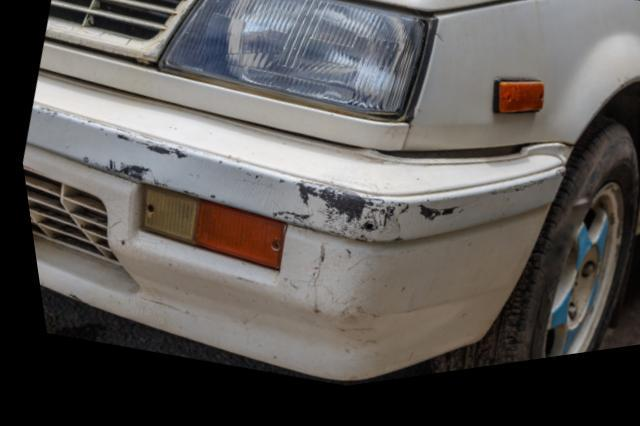scratch: (266, 187, 465, 258)
